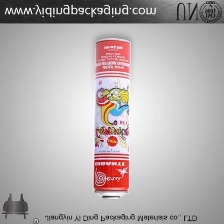aerosol_cans: (89, 34, 133, 203)
